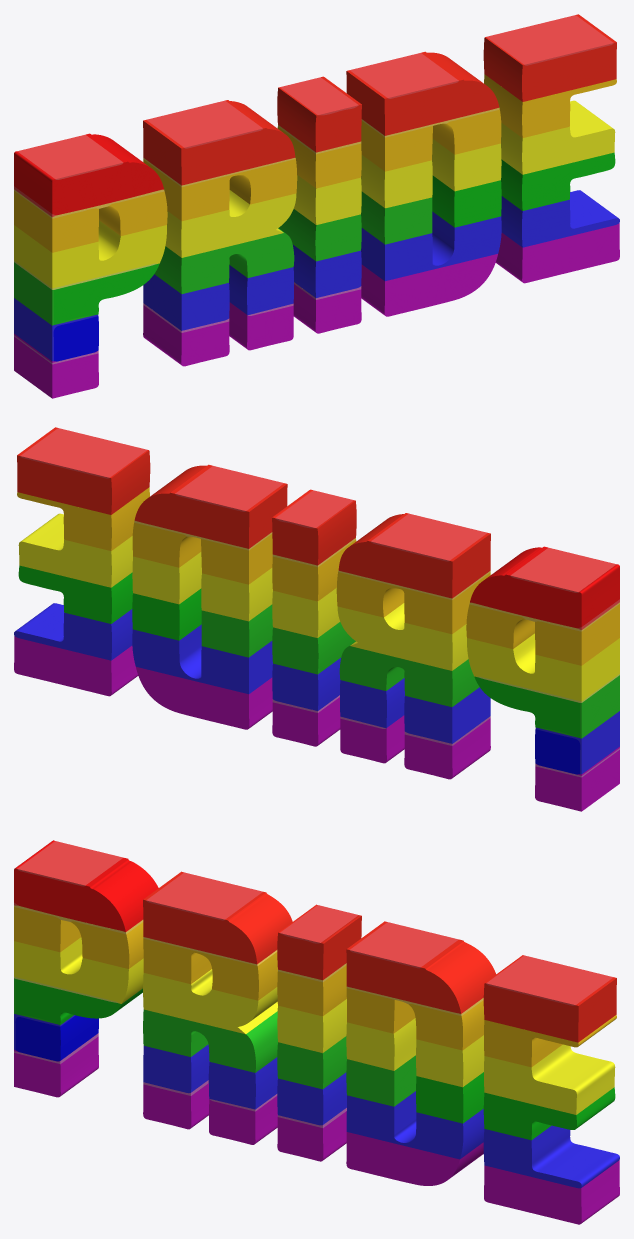
The model's file is 6pride.gltf.
3 renders of one model, top to bottom at view 1: azimuth 30°, elevation 25°; view 2: azimuth 150°, elevation 25°; view 3: azimuth 330°, elevation 25°, orthographic.
Size of the model in its own units: 0.1715 by 0.0632 by 0.02.
